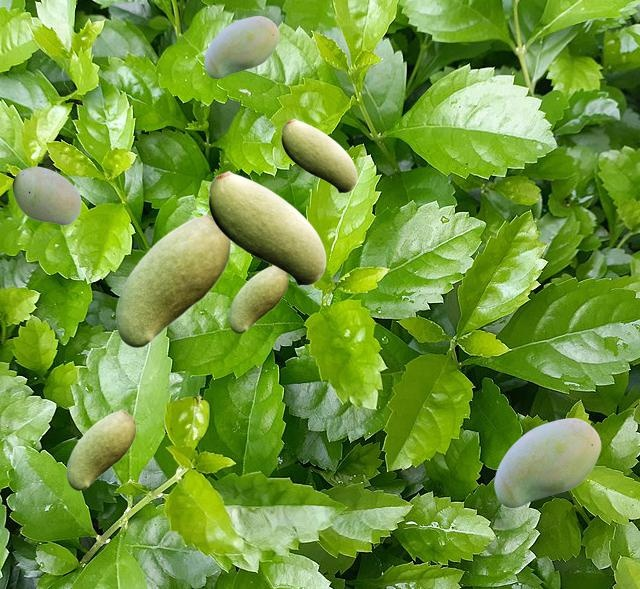green_mango: (115, 213, 230, 346), (208, 170, 325, 285), (494, 418, 600, 506), (281, 118, 356, 192), (66, 409, 135, 489), (204, 16, 278, 77), (12, 166, 80, 224), (228, 266, 287, 332)
